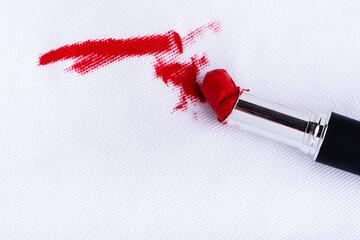gun: (31, 19, 225, 70), (153, 72, 202, 122)
